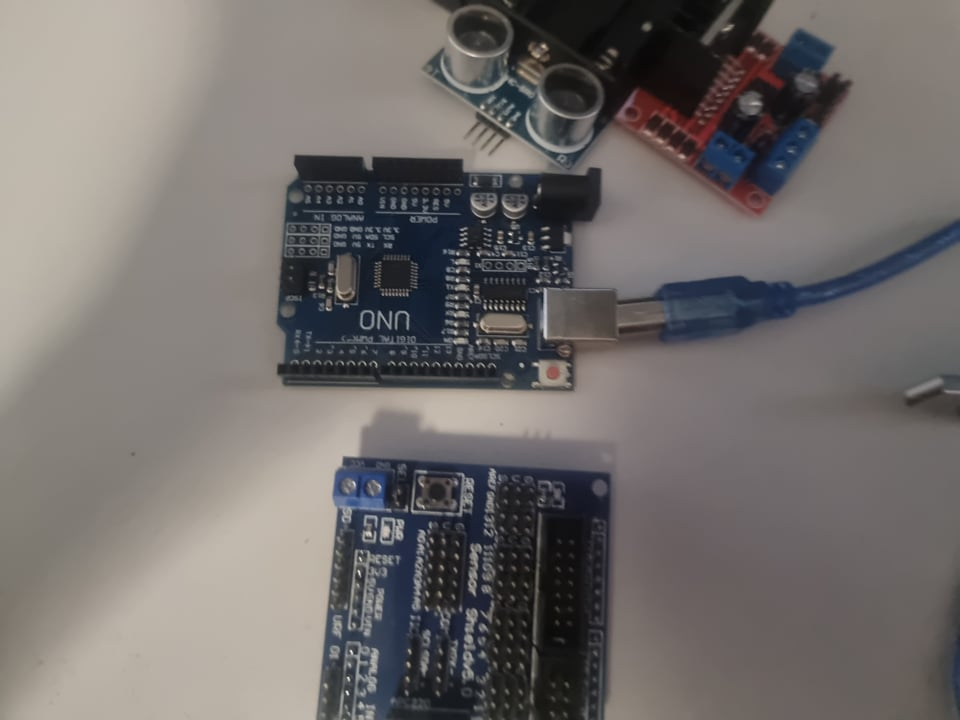5V EXPANSION: (314, 454, 609, 720)
MOTOR: (622, 3, 856, 223)
SENSOR: (423, 6, 610, 164)
UNO R3: (268, 144, 622, 400)
